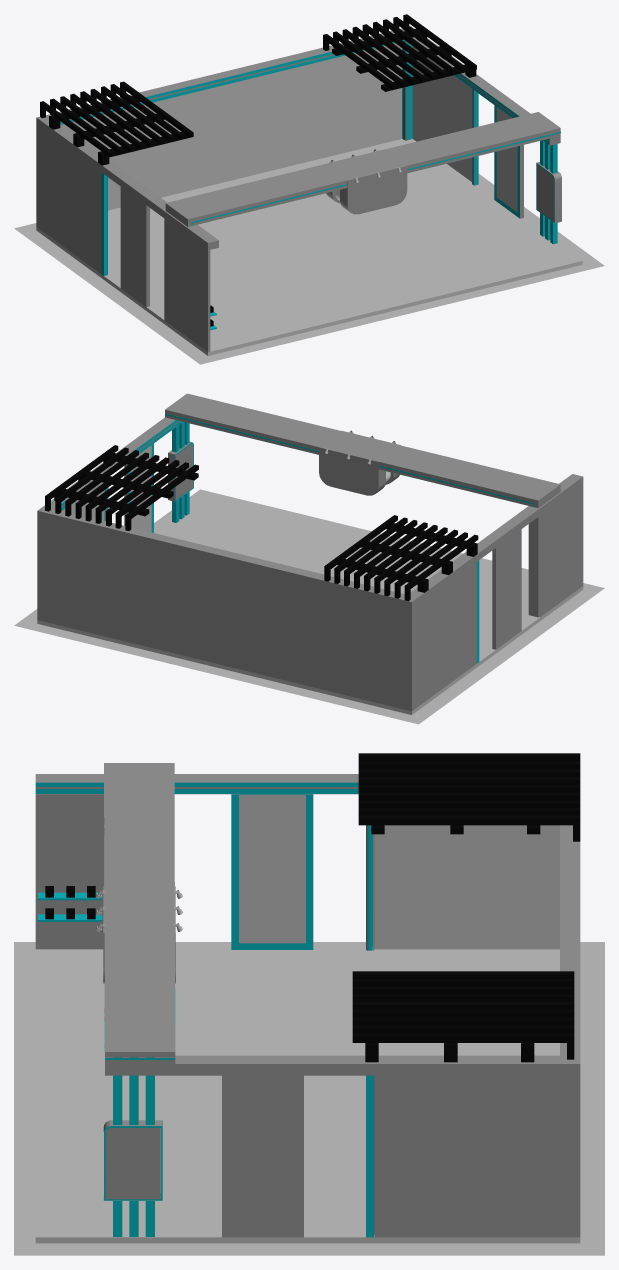
The model's file is type3-centerDraco.a415ebce.glb.
3 views of the same model, one above another, from view 1: azimuth 30°, elevation 25°; view 2: azimuth 150°, elevation 25°; view 3: azimuth 270°, elevation 25° (orthographic). The views are drawn at different scales.
Parts seen in each view (by area): view 1: x50stall, Base_AO; view 2: x50stall, Base_AO; view 3: x50stall, Base_AO.
Boxes of the visible parts, left/top/right/bottom form: x50stall: left=36, top=14, right=582, bottom=355; Base_AO: left=14, top=174, right=604, bottom=364; x50stall: left=37, top=393, right=583, bottom=714; Base_AO: left=14, top=489, right=604, bottom=724; x50stall: left=35, top=753, right=580, bottom=1243; Base_AO: left=14, top=942, right=604, bottom=1255.
Size of the model in its own units: 16.55 by 4.99 by 13.19.
